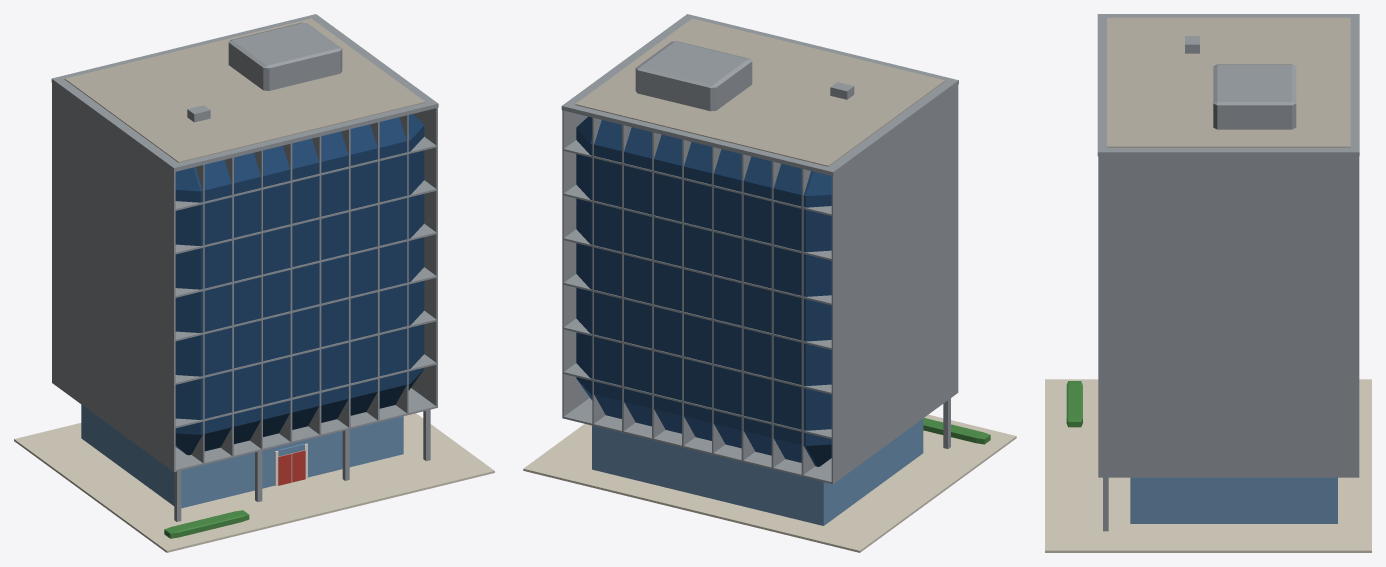
The model's file is office_f8_ribbon_w24.glb.
The picture shows the model from 3 angles, left to right: view 1: azimuth 30°, elevation 25°; view 2: azimuth 150°, elevation 25°; view 3: azimuth 270°, elevation 25°; orthographic projection. The views are drawn at different scales.
Visible parts, largest first — view 1: slab, mullv, roofslab, plaza, lobby, roofband, penthouse, mullv.009, mullh, mullv.004, mullv.005, mullv.007 (+12 smaller); view 2: slab, mullv, roofslab, plaza, lobby, roofband, penthouse, mullv.009, mullh, mullv.003, mullv.001, mullv.002 (+12 smaller); view 3: mullv.009, roofslab, plaza, lobby, roofband, penthouse, planter.
Boxes of the visible parts, x1=… form: slab: x1=175, y1=114, x2=424, y2=455; mullv: x1=52, y1=78, x2=175, y2=472; roofslab: x1=64, y1=18, x2=425, y2=162; plaza: x1=14, y1=413, x2=494, y2=552; lobby: x1=81, y1=404, x2=403, y2=508; roofband: x1=51, y1=14, x2=438, y2=171; penthouse: x1=228, y1=22, x2=342, y2=90; mullv.009: x1=315, y1=14, x2=437, y2=406; mullh: x1=174, y1=388, x2=437, y2=471; mullv.004: x1=170, y1=51, x2=292, y2=443; mullv.005: x1=201, y1=44, x2=321, y2=434; mullv.007: x1=257, y1=28, x2=379, y2=421; slab: x1=576, y1=116, x2=831, y2=466; mullv: x1=831, y1=80, x2=958, y2=483; roofslab: x1=575, y1=18, x2=945, y2=166; plaza: x1=523, y1=414, x2=1016, y2=552; lobby: x1=592, y1=418, x2=923, y2=525; roofband: x1=561, y1=14, x2=958, y2=176; penthouse: x1=635, y1=41, x2=752, y2=111; mullv.009: x1=562, y1=15, x2=687, y2=418; mullh: x1=563, y1=398, x2=832, y2=483; mullv.003: x1=741, y1=58, x2=867, y2=462; mullv.001: x1=801, y1=74, x2=925, y2=476; mullv.002: x1=771, y1=65, x2=897, y2=467; mullv.009: x1=1098, y1=151, x2=1359, y2=477; roofslab: x1=1107, y1=17, x2=1350, y2=147; plaza: x1=1045, y1=379, x2=1371, y2=552; lobby: x1=1130, y1=477, x2=1337, y2=523; roofband: x1=1097, y1=14, x2=1359, y2=156; penthouse: x1=1213, y1=64, x2=1296, y2=129; planter: x1=1066, y1=381, x2=1082, y2=427.
Bounding box in the file's own units: 30 × 33.58 × 24.2.
